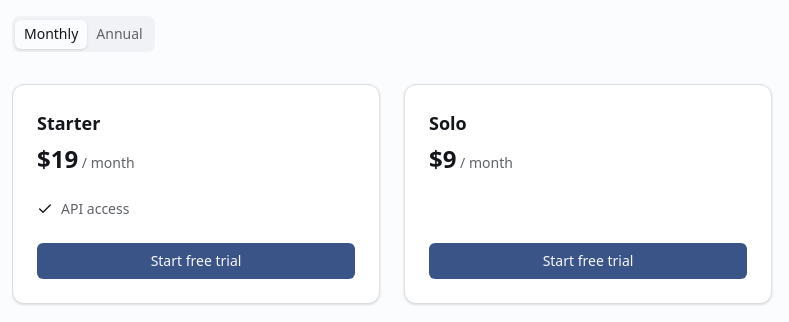
Test case: <PricingTable> › switches to the annual price for each plan when toggled
Press the mouse on the tab "Annual" at x=120, y=34, box [87,20,152,48]
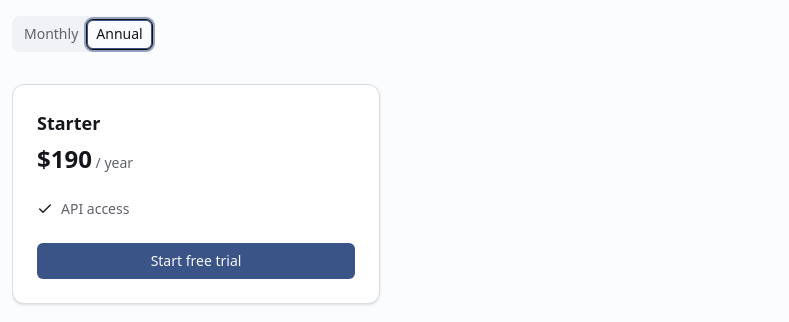
expect the text "$190" is shown: met, box [37,142,92,175]
expect the text "/ year" is shown: met, box [92,153,133,172]
